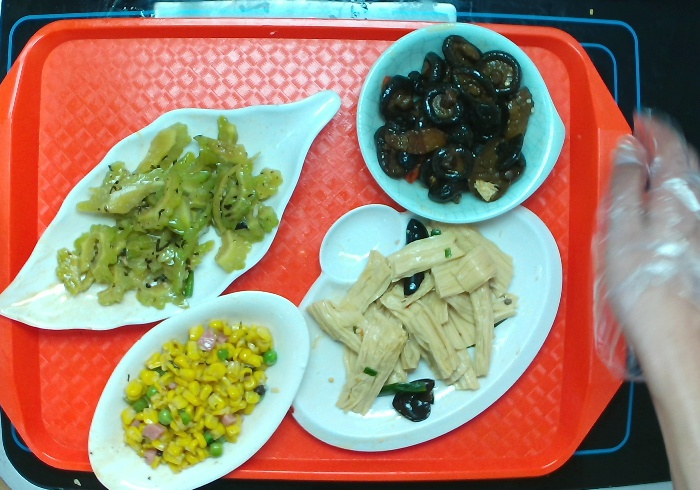RJxy-Bai_Se_Tuo_Yuan: (82, 286, 316, 490)
RJxy-Shu_Ye_Pan: (1, 87, 346, 337)
RJxy-Xiao_Jiao_Yuan_Wan: (347, 17, 571, 228)
RJxy-Zhan_Liao_Pan: (286, 198, 566, 457)
